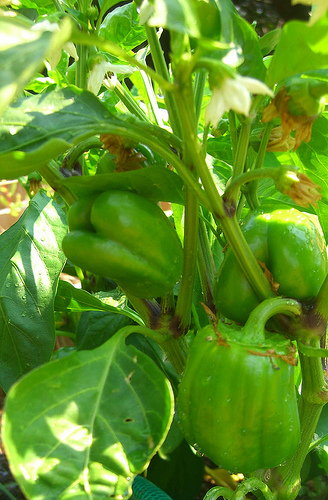capsicum: (174, 296, 305, 476), (60, 189, 184, 298), (216, 207, 326, 320)
